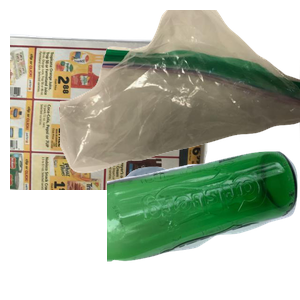glass: (107, 149, 300, 300)
paper: (10, 31, 214, 211)
plastic: (110, 164, 300, 300)
trash: (60, 10, 300, 176)
